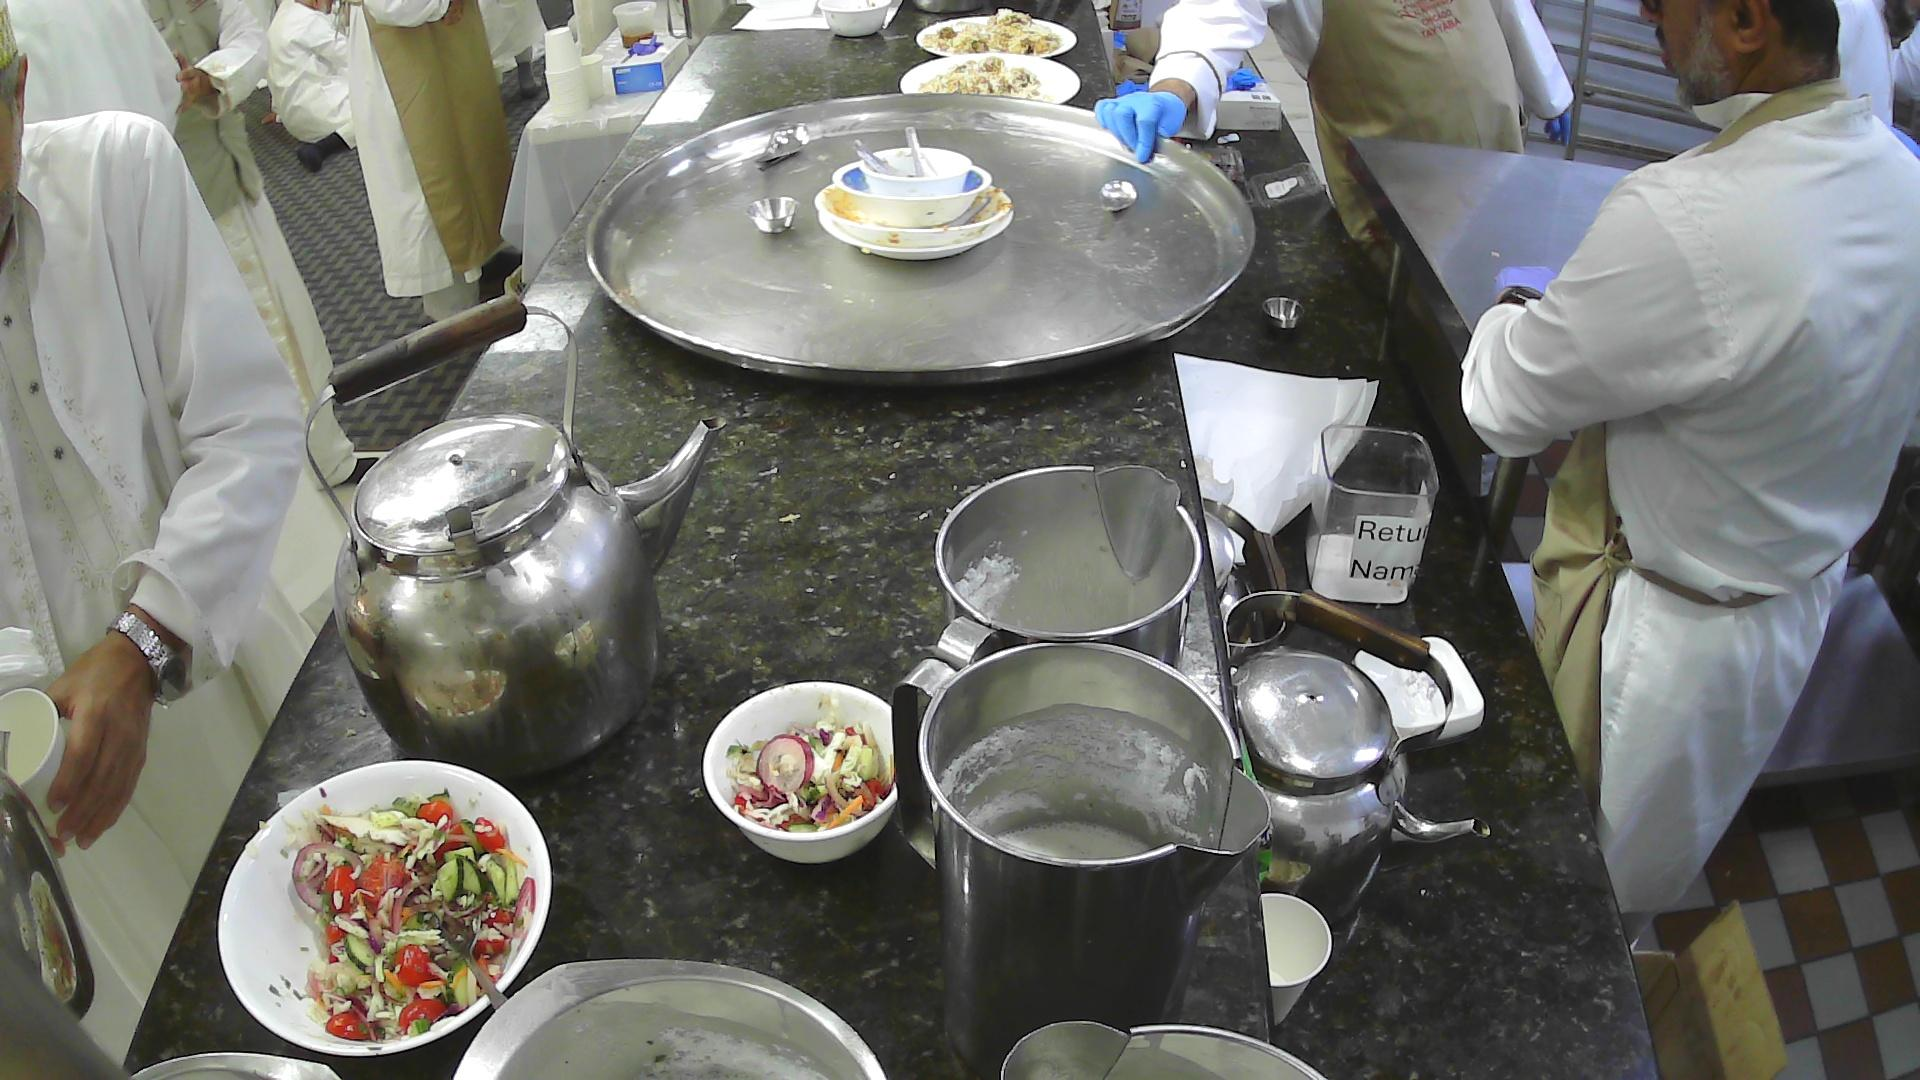thaal: (582, 90, 1258, 397)
